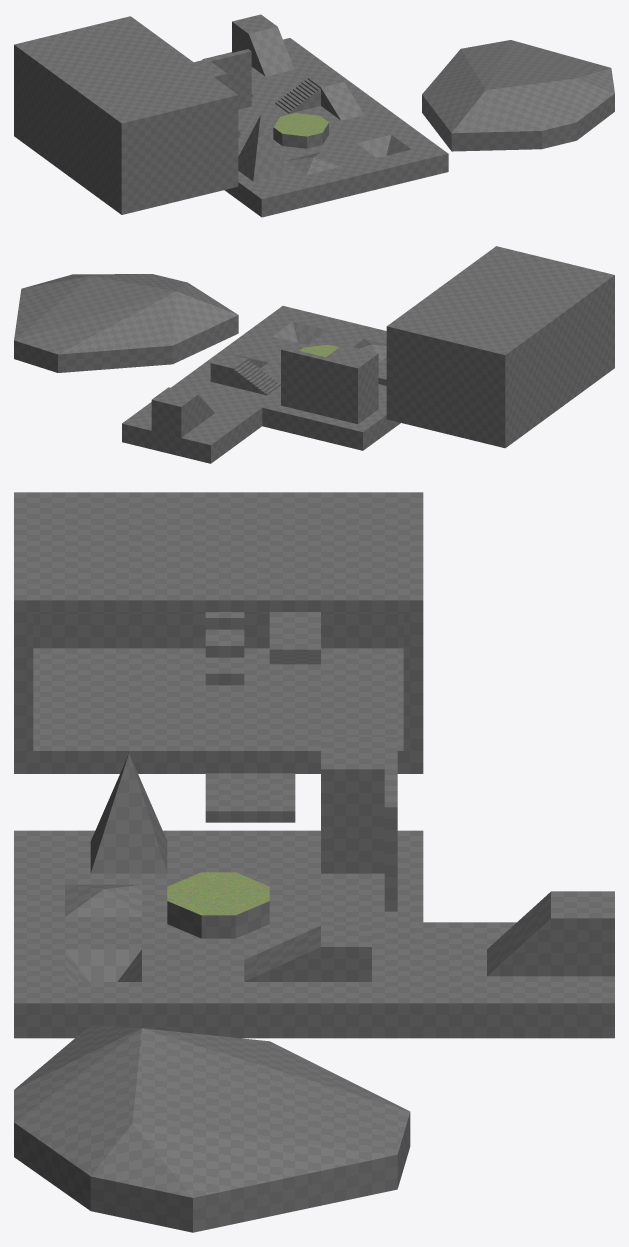
Rendered from CollisionTest.obj.
The picture shows the model from 3 angles, top to bottom: view 1: azimuth 30°, elevation 25°; view 2: azimuth 150°, elevation 25°; view 3: azimuth 270°, elevation 25°; orthographic projection. The views are drawn at different scales.
Parts seen in each view (by area): view 1: entity0_brush15, entity0_brush26, entity0_brush24, entity0_brush27, entity0_brush6, entity0_brush5, entity0_brush20, entity0_brush19, entity0_brush3, entity0_brush7, entity0_brush2, entity0_brush16 (+5 smaller); view 2: entity0_brush15, entity0_brush26, entity0_brush25, entity0_brush27, entity0_brush6, entity0_brush19, entity0_brush17, entity0_brush18, entity0_brush5, entity0_brush20, entity0_brush7, entity0_brush8 (+4 smaller); view 3: entity0_brush15, entity0_brush27, entity0_brush10, entity0_brush6, entity0_brush5, entity0_brush19, entity0_brush26, entity0_brush17, entity0_brush20, entity0_brush3, entity0_brush16, entity0_brush2 (+10 smaller).
Part boxes in pixels (x1=…): entity0_brush15: x1=422, y1=40, x2=614, y2=151; entity0_brush26: x1=14, y1=43, x2=127, y2=214; entity0_brush24: x1=123, y1=91, x2=238, y2=213; entity0_brush27: x1=25, y1=20, x2=232, y2=118; entity0_brush6: x1=224, y1=89, x2=406, y2=217; entity0_brush5: x1=336, y1=75, x2=448, y2=181; entity0_brush20: x1=232, y1=14, x2=294, y2=76; entity0_brush19: x1=202, y1=38, x2=340, y2=96; entity0_brush3: x1=238, y1=115, x2=287, y2=181; entity0_brush7: x1=283, y1=85, x2=391, y2=157; entity0_brush2: x1=273, y1=113, x2=328, y2=148; entity0_brush16: x1=307, y1=72, x2=364, y2=120; entity0_brush15: x1=14, y1=274, x2=238, y2=372; entity0_brush26: x1=499, y1=273, x2=614, y2=448; entity0_brush25: x1=386, y1=322, x2=503, y2=446; entity0_brush27: x1=392, y1=250, x2=603, y2=349; entity0_brush6: x1=233, y1=320, x2=400, y2=450; entity0_brush19: x1=122, y1=386, x2=262, y2=463; entity0_brush17: x1=322, y1=345, x2=378, y2=424; entity0_brush18: x1=281, y1=347, x2=325, y2=415; entity0_brush5: x1=173, y1=306, x2=305, y2=391; entity0_brush20: x1=151, y1=387, x2=214, y2=437; entity0_brush7: x1=197, y1=336, x2=307, y2=400; entity0_brush8: x1=293, y1=311, x2=341, y2=345; entity0_brush15: x1=14, y1=1025, x2=410, y2=1232; entity0_brush27: x1=33, y1=497, x2=403, y2=611; entity0_brush10: x1=33, y1=648, x2=403, y2=773; entity0_brush6: x1=14, y1=830, x2=423, y2=981; entity0_brush5: x1=14, y1=982, x2=423, y2=1038; entity0_brush19: x1=423, y1=922, x2=614, y2=1038; entity0_brush26: x1=14, y1=492, x2=423, y2=648; entity0_brush17: x1=321, y1=737, x2=397, y2=873; entity0_brush20: x1=487, y1=891, x2=614, y2=976; entity0_brush3: x1=90, y1=753, x2=167, y2=873; entity0_brush16: x1=244, y1=925, x2=371, y2=981; entity0_brush2: x1=167, y1=872, x2=269, y2=938.
Size of the model in its own units: 1472 by 336 by 752.
Materials: 2 (2 with a texture image).
